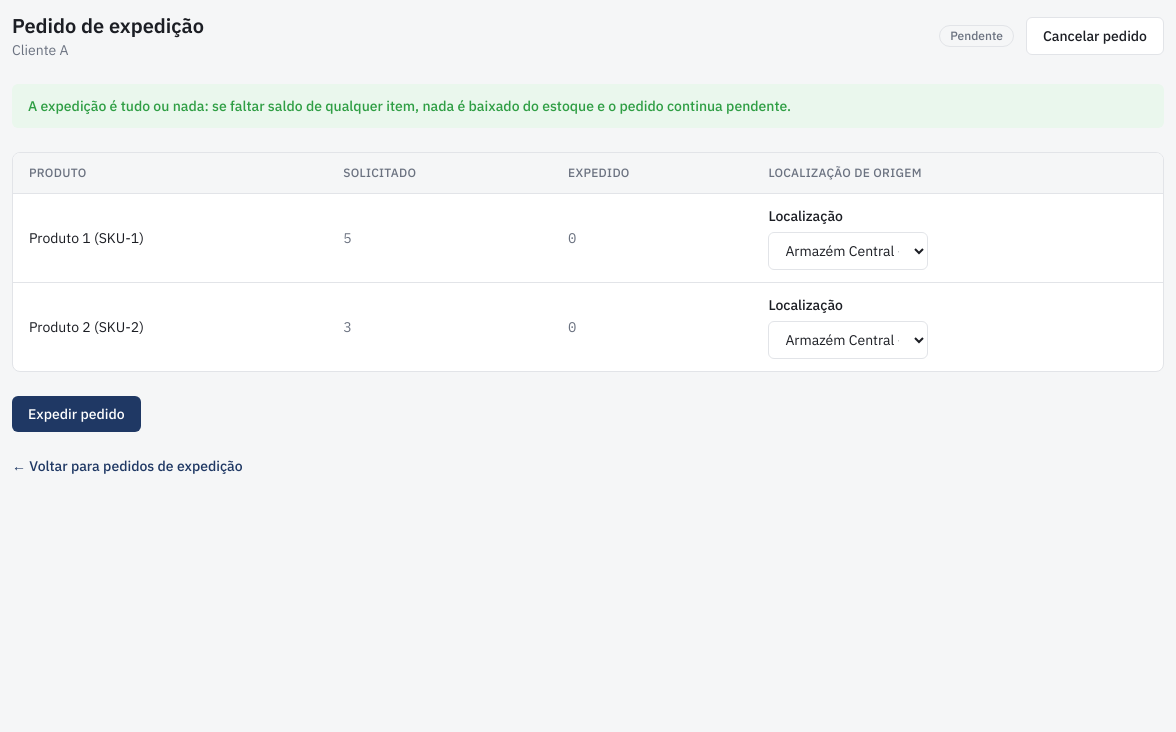
Scenario: PedidoExpedicaoDetailPage › expedir envia TODOS os itens do pedido de uma vez, com a localização de cada um
The image size is (1176, 732).
Expected: the text "Cliente A" is shown, [12, 41, 68, 59]
Click the button "Expedir pedido". click: (76, 414)
box: [12, 396, 141, 432]
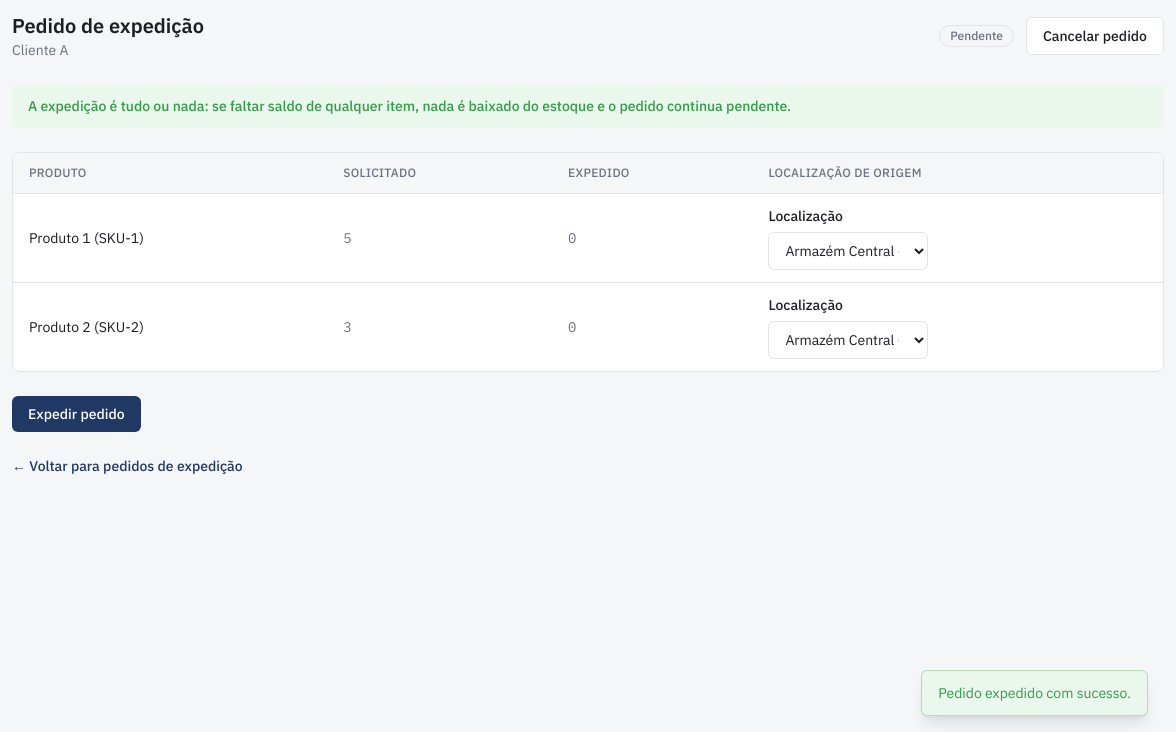
Now the text "Pedido expedido com sucesso." is shown, box [921, 670, 1148, 716]
